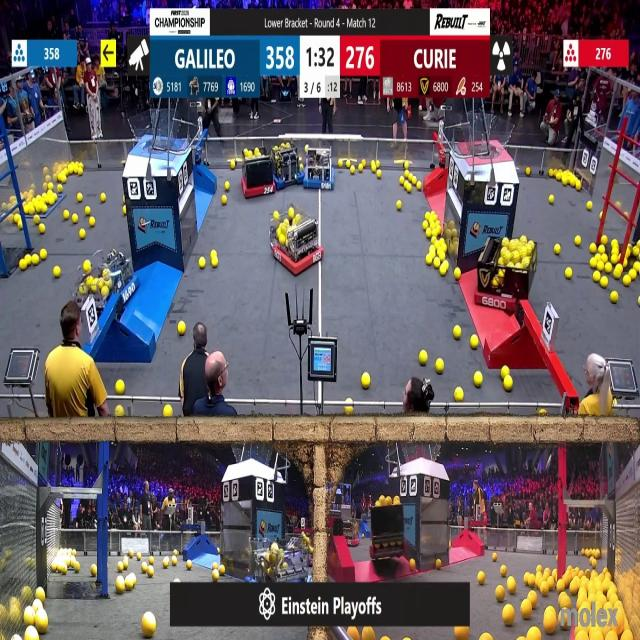ball_airborne: (346, 628, 359, 640), (362, 627, 373, 640)
ball_ground: (142, 615, 156, 638), (543, 612, 555, 636), (35, 615, 48, 636), (502, 605, 514, 625), (522, 602, 532, 619), (560, 594, 570, 608), (496, 587, 505, 602), (506, 580, 515, 595), (528, 629, 540, 640), (126, 578, 136, 591), (119, 579, 128, 593), (27, 629, 38, 640), (361, 374, 369, 389), (434, 358, 442, 373), (115, 381, 124, 394), (473, 373, 481, 387), (503, 378, 511, 392), (615, 266, 623, 280), (164, 407, 173, 419), (455, 387, 463, 400), (469, 337, 477, 350), (528, 592, 536, 605), (599, 264, 609, 274), (178, 321, 185, 335), (454, 325, 461, 339), (420, 350, 427, 364), (479, 570, 486, 584), (37, 589, 45, 601), (18, 261, 26, 272), (83, 262, 90, 274), (454, 269, 461, 281), (601, 276, 608, 288), (92, 564, 99, 576), (441, 265, 448, 277), (115, 408, 123, 418), (610, 253, 618, 263), (610, 291, 617, 302), (555, 244, 562, 255), (565, 269, 572, 280), (32, 254, 39, 265), (212, 569, 219, 580), (590, 257, 597, 268), (524, 573, 531, 584), (482, 633, 493, 640), (433, 223, 440, 234), (346, 408, 354, 417), (411, 559, 417, 571), (501, 366, 508, 376), (573, 237, 580, 247), (624, 276, 631, 286), (590, 244, 597, 254), (499, 566, 506, 576), (630, 271, 637, 281), (25, 206, 32, 216), (26, 255, 33, 265), (435, 559, 441, 570), (40, 249, 46, 260), (200, 257, 206, 268), (55, 268, 61, 279), (610, 240, 617, 249), (61, 565, 68, 574), (79, 230, 85, 240), (90, 216, 96, 226), (212, 258, 218, 268), (186, 560, 192, 570), (147, 566, 153, 576), (594, 272, 600, 282), (64, 210, 70, 220), (426, 230, 432, 240), (407, 182, 413, 192), (122, 560, 128, 570), (274, 210, 280, 220), (562, 175, 568, 185), (74, 562, 80, 572), (433, 257, 439, 267), (369, 162, 375, 172), (117, 562, 123, 572), (83, 208, 90, 216), (600, 237, 607, 245), (148, 557, 155, 565), (588, 202, 594, 211), (72, 214, 78, 223), (492, 553, 498, 562), (172, 557, 178, 566), (426, 255, 432, 264), (164, 560, 170, 569), (76, 192, 82, 201), (58, 183, 64, 192), (34, 214, 40, 223), (602, 253, 608, 262), (231, 162, 237, 171), (598, 245, 604, 254), (39, 223, 44, 233), (219, 565, 224, 575), (550, 196, 555, 206), (575, 180, 580, 190), (212, 562, 219, 569), (211, 250, 217, 258), (350, 167, 356, 175), (221, 197, 227, 205), (526, 168, 532, 176), (547, 169, 553, 177), (556, 173, 562, 181), (77, 168, 83, 176), (441, 252, 447, 260), (396, 201, 401, 210), (398, 176, 403, 185), (423, 220, 428, 229), (412, 177, 418, 184), (101, 192, 106, 200), (377, 171, 382, 179), (358, 164, 363, 172), (339, 161, 344, 169), (403, 162, 408, 170), (635, 295, 640, 303), (425, 212, 430, 220), (47, 183, 52, 191), (538, 411, 544, 417), (346, 162, 351, 169), (403, 171, 408, 178), (536, 565, 541, 572), (224, 182, 228, 190), (418, 182, 422, 190), (17, 221, 21, 229), (377, 162, 381, 170), (122, 207, 125, 216), (138, 555, 142, 561), (217, 546, 220, 552)
goal: (459, 118, 516, 158), (128, 116, 186, 152)
robot_blue: (241, 539, 315, 621), (78, 253, 138, 324), (298, 144, 336, 192), (270, 141, 300, 190)
robot_red: (476, 238, 536, 315), (270, 207, 322, 276), (366, 499, 406, 582), (242, 148, 274, 199), (342, 521, 361, 546)
